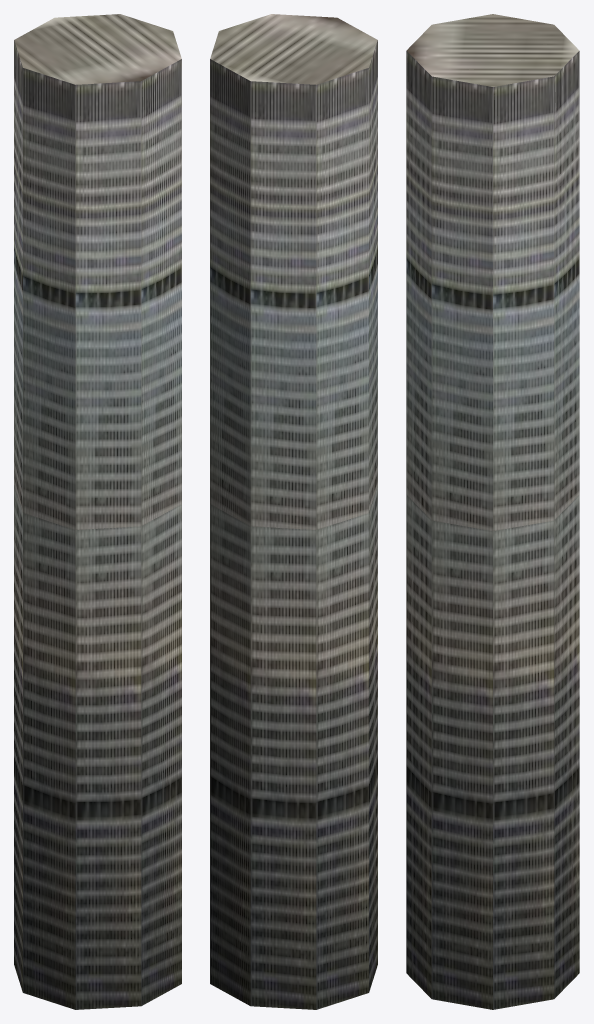
File: ny-tower-3.glb
The picture shows the model from 3 angles, left to right: view 1: azimuth 30°, elevation 25°; view 2: azimuth 150°, elevation 25°; view 3: azimuth 270°, elevation 25°; orthographic projection.
Visible parts, largest first — view 1: ny-tower-3; view 2: ny-tower-3; view 3: ny-tower-3.
Boxes of the visible parts, box(x1,y1,x2,y2) form: ny-tower-3: box(14, 14, 181, 1009); ny-tower-3: box(210, 14, 377, 1009); ny-tower-3: box(406, 14, 579, 1009).
Size of the model in its own units: 35.26 by 208 by 35.26.
Materials: 1 (1 with a texture image).
